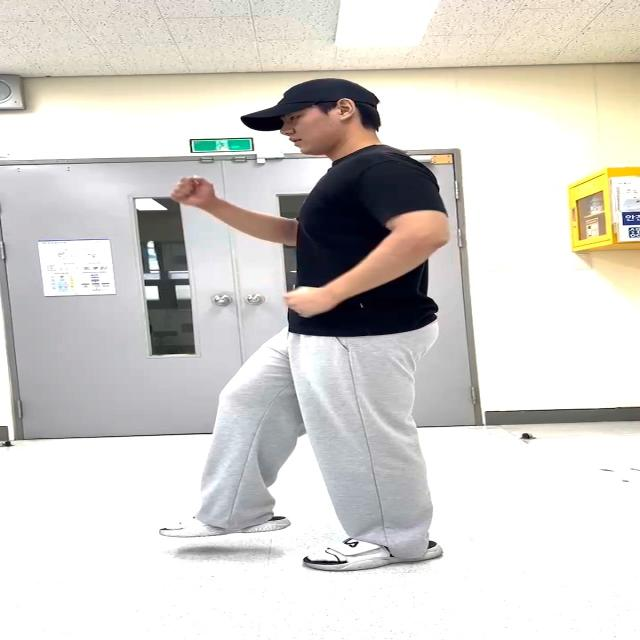leg: (163, 344, 288, 530)
